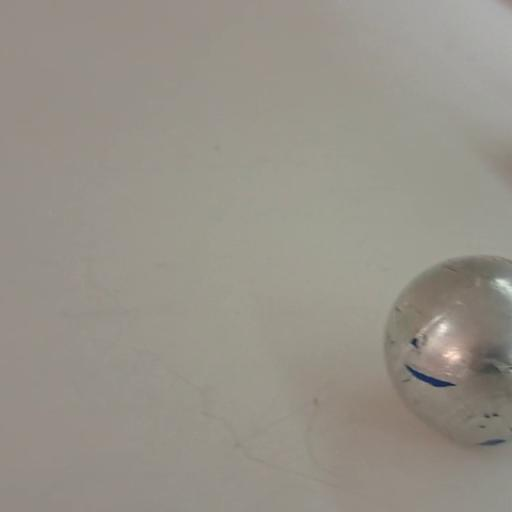alive: (379, 253, 512, 451)
